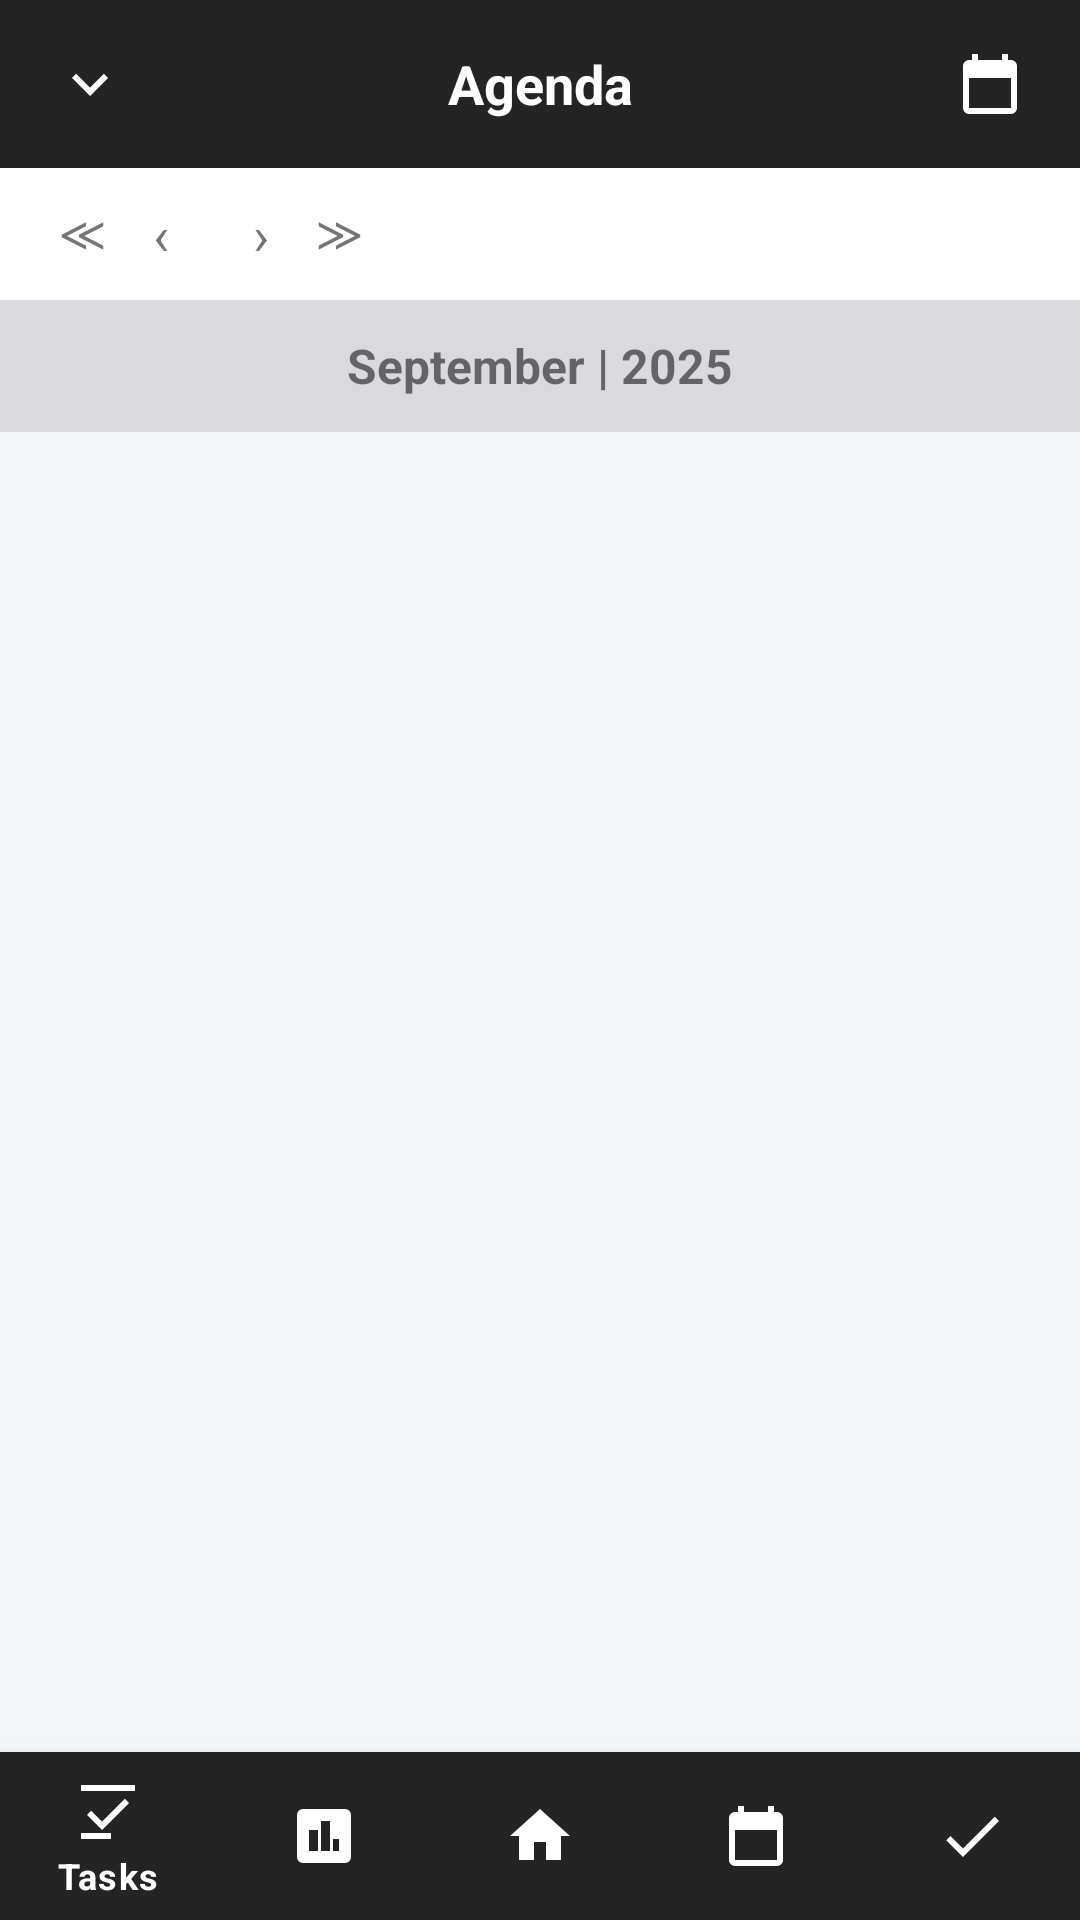

Where to tap for icons on this 1080w x 1920h app screen, as (x,y):
Calendar: (990,84)
